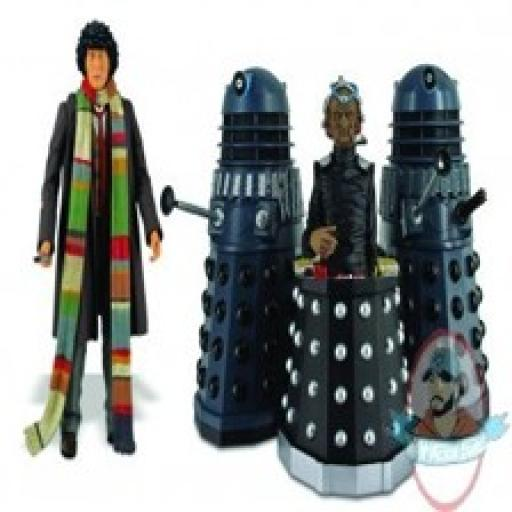dalek: (157, 66, 301, 451), (378, 63, 507, 429), (254, 256, 426, 504)
